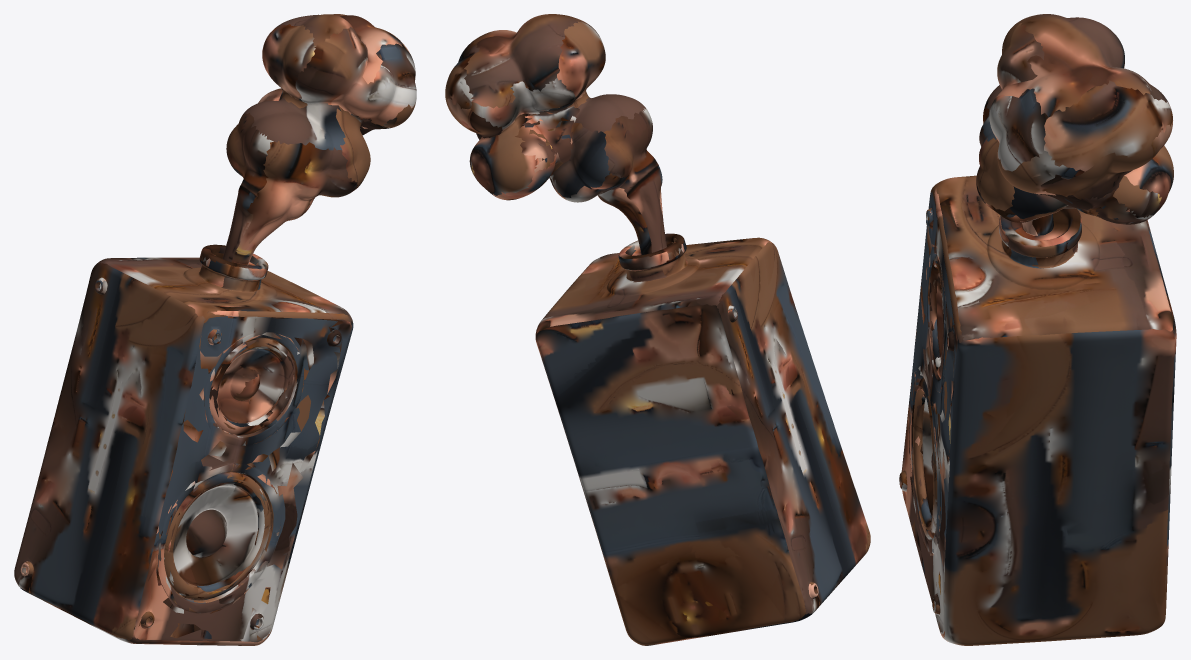
File: Smoke.fbx
The picture shows the model from 3 angles, left to right: view 1: azimuth 30°, elevation 25°; view 2: azimuth 150°, elevation 25°; view 3: azimuth 270°, elevation 25°; orthographic projection. The views are drawn at different scales.
Visible parts, largest first — view 1: node_0; view 2: node_0; view 3: node_0.
Boxes of the visible parts, left/top/right/bottom form: node_0: left=14, top=14, right=416, bottom=645; node_0: left=445, top=14, right=870, bottom=645; node_0: left=899, top=14, right=1176, bottom=645.
Size of the model in its own units: 75.99 by 111 by 40.48.
